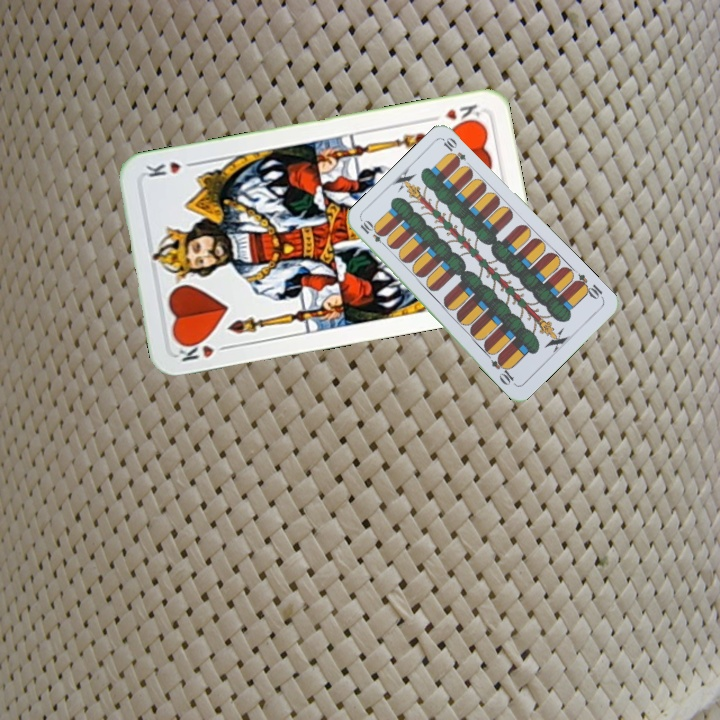E10: (356, 217, 391, 250), (570, 270, 606, 302)
HK: (174, 336, 233, 365), (425, 100, 485, 128)
